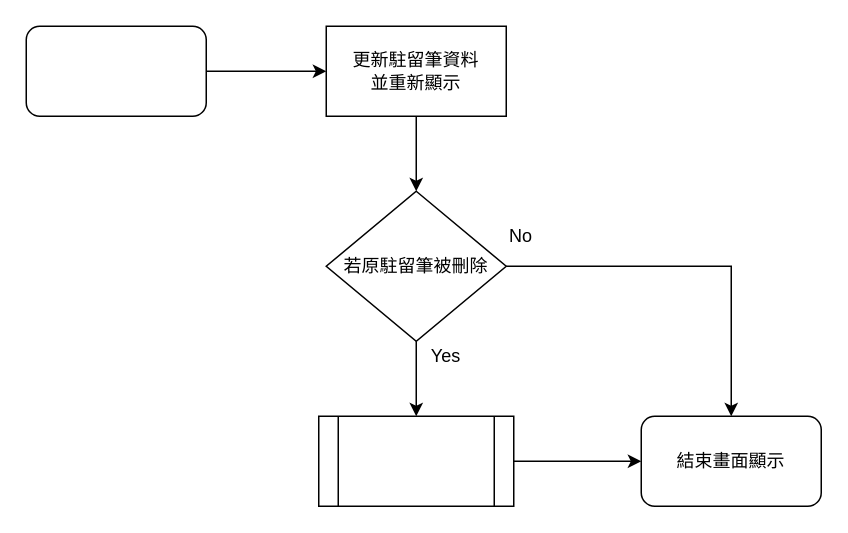
The diagram is 848 pixels wide and 533 high, and some of its shapes have lost their labels. The shapes that lost their labels are listed below. From the top down, each one's box as (x1, y1, x2, y2) in pixels, then its label:
(25, 25, 206, 116): 觸發重顯駐留筆
(317, 415, 514, 506): 執行整個檔區重顯
